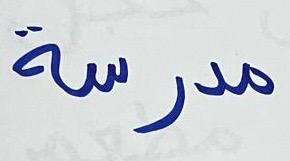lam: (192, 57, 226, 98)
meem: (227, 57, 277, 99)
reh: (132, 74, 187, 135)
seen: (73, 56, 130, 99)
teh_marbota: (10, 23, 67, 93)
